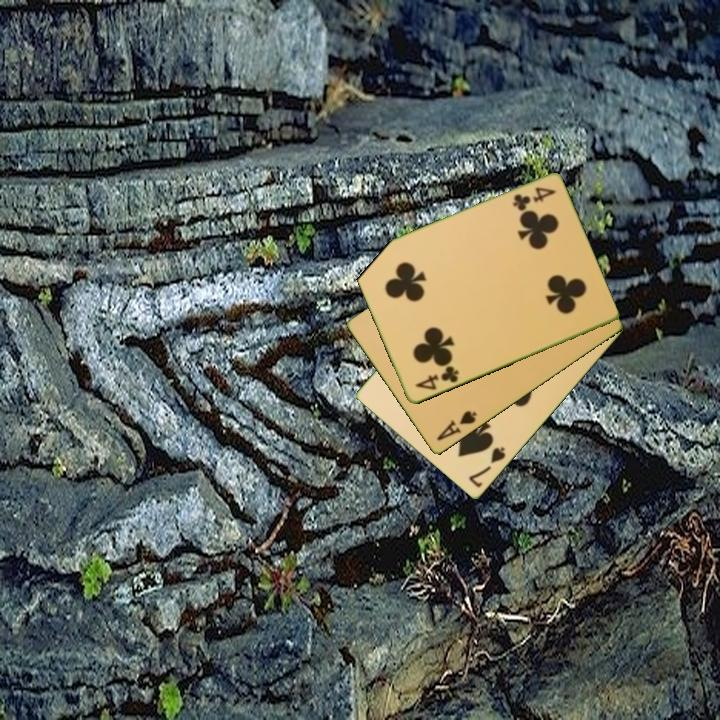4c: (412, 362, 462, 393), (509, 184, 559, 214)
7s: (465, 443, 509, 491)
As: (433, 407, 480, 444)
